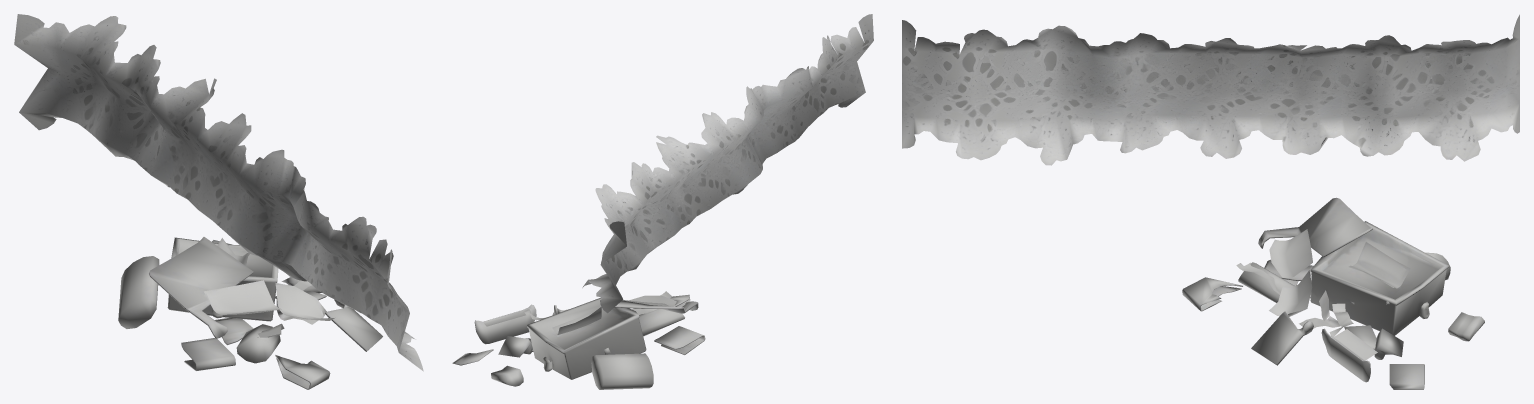
File: ribbon_lace.glb
3 renders of one model, left to right at view 1: azimuth 30°, elevation 25°; view 2: azimuth 150°, elevation 25°; view 3: azimuth 270°, elevation 25°, orthographic. The views are drawn at different scales.
Visible parts, largest first — view 1: tripo_node_7cf04be4-f881-433c-909a-90144e2d85ef; view 2: tripo_node_7cf04be4-f881-433c-909a-90144e2d85ef; view 3: tripo_node_7cf04be4-f881-433c-909a-90144e2d85ef.
Part boxes in pixels (left/top/right/bottom): tripo_node_7cf04be4-f881-433c-909a-90144e2d85ef: left=14, top=14, right=423, bottom=389; tripo_node_7cf04be4-f881-433c-909a-90144e2d85ef: left=452, top=14, right=873, bottom=389; tripo_node_7cf04be4-f881-433c-909a-90144e2d85ef: left=902, top=14, right=1519, bottom=389.
Bounding box in the file's own units: 0.4663 × 0.4692 × 0.9995.
1 material, 1 textured.
